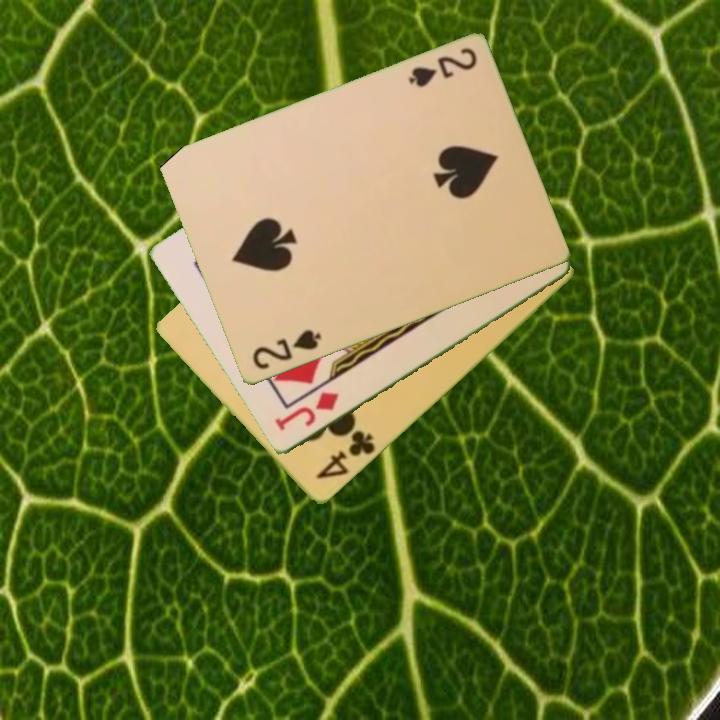2s: (248, 326, 324, 374), (404, 44, 480, 91)
4c: (312, 427, 378, 483)
Jd: (271, 388, 342, 435)
